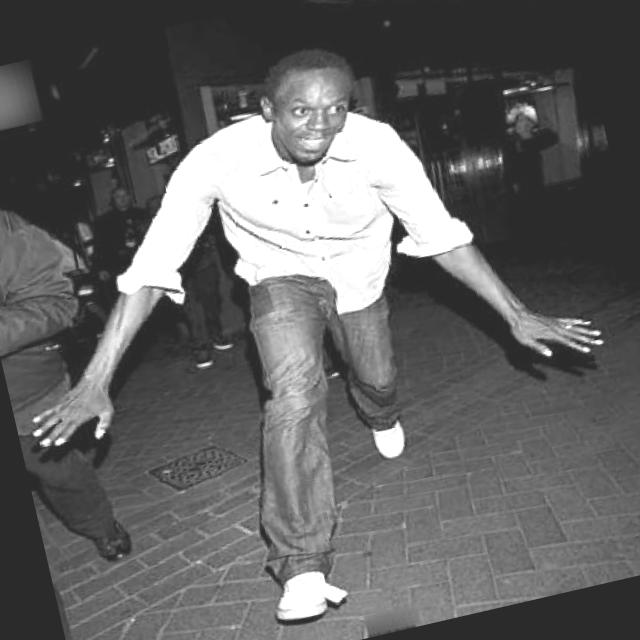Person: (132, 19, 536, 640)
